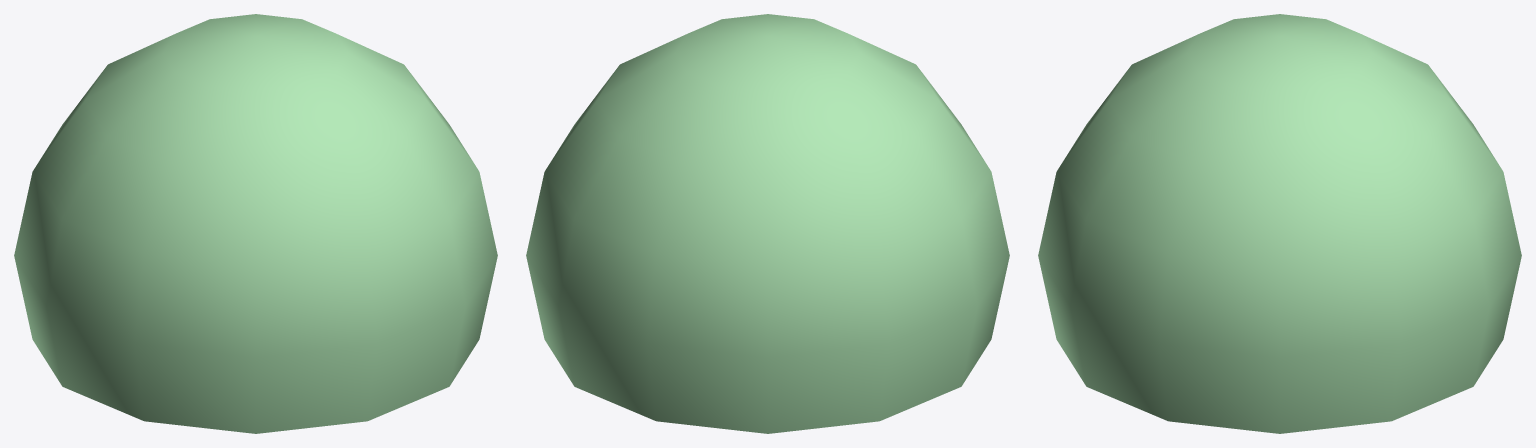
The model's file is mad_eye.fbx.
3 renders of one model, left to right at view 1: azimuth 30°, elevation 25°; view 2: azimuth 150°, elevation 25°; view 3: azimuth 270°, elevation 25°, orthographic.
Parts seen in each view (by area): view 1: mad_eye; view 2: mad_eye; view 3: mad_eye.
Boxes of the visible parts, x1,y1,x2,y2 form: mad_eye: (14, 14, 497, 433); mad_eye: (526, 14, 1009, 433); mad_eye: (1038, 14, 1521, 433).
Bounding box in the file's own units: 177 × 122 × 177.
